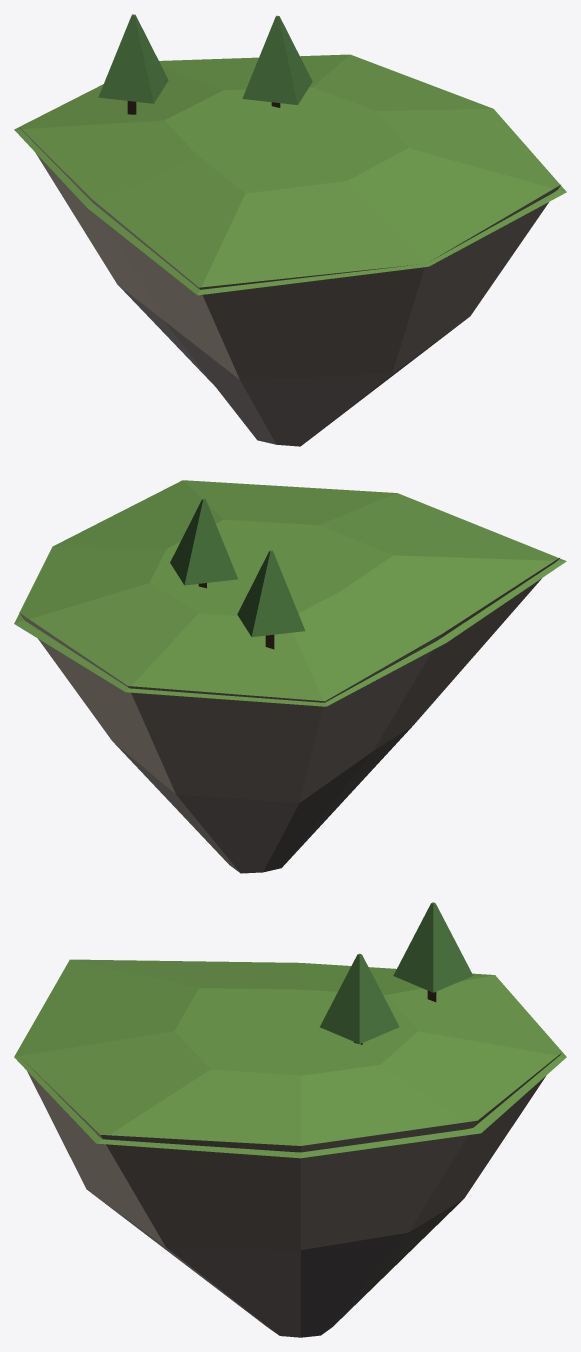
Rendered from SM_Env_SkyIsland_LQ.glb.
3 views of the same model, one above another, from view 1: azimuth 30°, elevation 25°; view 2: azimuth 150°, elevation 25°; view 3: azimuth 270°, elevation 25° (orthographic). The views are drawn at different scales.
Visible parts, largest first — view 1: SM_Env_SkyIsland_LQ; view 2: SM_Env_SkyIsland_LQ; view 3: SM_Env_SkyIsland_LQ.
Part boxes in pixels (x1,y1,x2,y2): SM_Env_SkyIsland_LQ: [14, 14, 566, 446]; SM_Env_SkyIsland_LQ: [14, 480, 566, 873]; SM_Env_SkyIsland_LQ: [14, 902, 566, 1337].
Bounding box in the file's own units: 16.42 × 14.8 × 19.31.
1 material, 1 textured.
